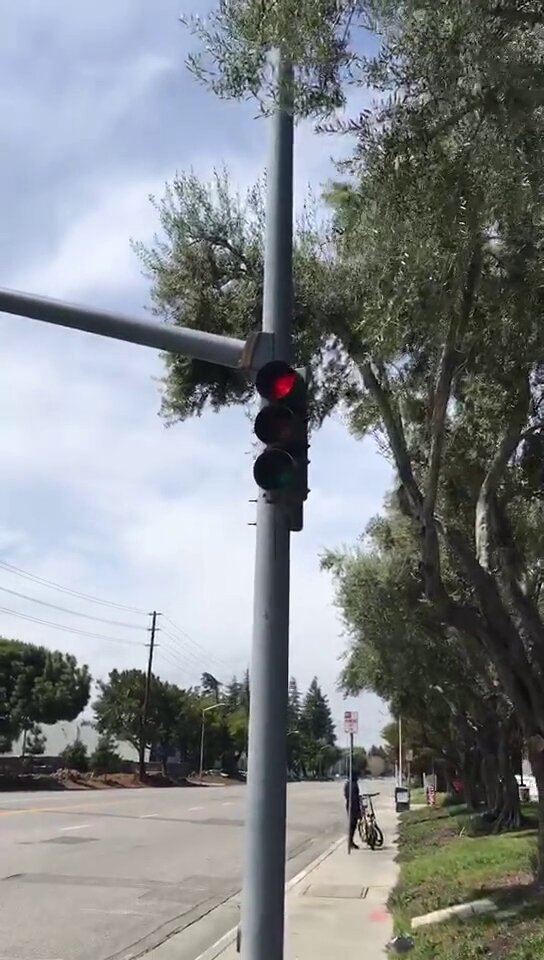red_light: (255, 360, 302, 493)
